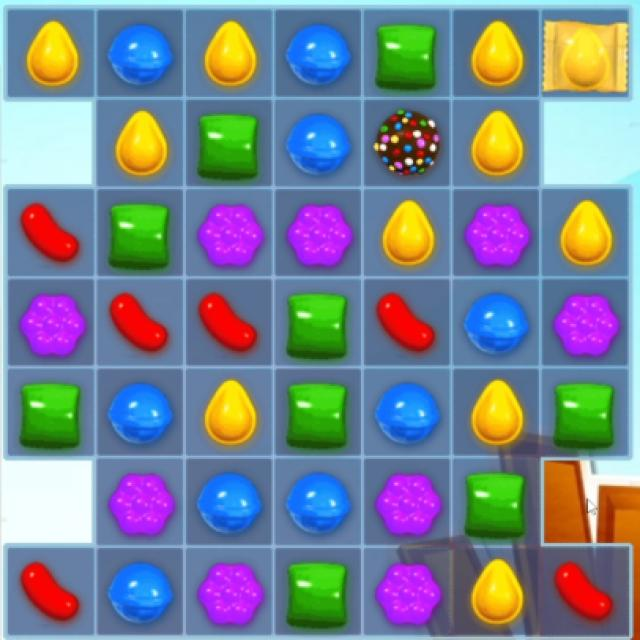blue: (273, 455, 366, 546), (453, 275, 542, 368), (94, 548, 184, 638), (365, 364, 451, 458), (186, 459, 276, 547), (98, 369, 184, 460), (276, 9, 364, 97), (276, 99, 362, 189), (96, 11, 185, 97)
color-bomb: (363, 98, 452, 187)
green: (272, 546, 362, 640), (8, 366, 97, 460), (453, 456, 542, 548), (273, 279, 363, 369), (187, 98, 274, 191), (363, 9, 452, 98), (540, 368, 627, 459), (274, 370, 362, 456), (96, 192, 183, 276)
purple: (363, 546, 452, 640), (94, 459, 186, 546), (366, 454, 449, 549), (455, 188, 542, 278), (188, 547, 272, 640), (6, 281, 96, 367), (184, 191, 275, 276), (543, 275, 627, 367), (275, 191, 361, 279)
red: (538, 546, 627, 640), (185, 278, 274, 371), (8, 547, 96, 638), (94, 278, 186, 364), (363, 279, 452, 367), (10, 188, 95, 279)
yellow: (94, 97, 187, 190), (542, 6, 634, 100), (542, 186, 630, 280), (182, 367, 274, 456), (454, 7, 542, 100), (452, 546, 539, 639), (3, 10, 97, 96), (451, 368, 540, 458), (454, 98, 541, 190), (365, 188, 453, 278), (186, 9, 274, 95)
